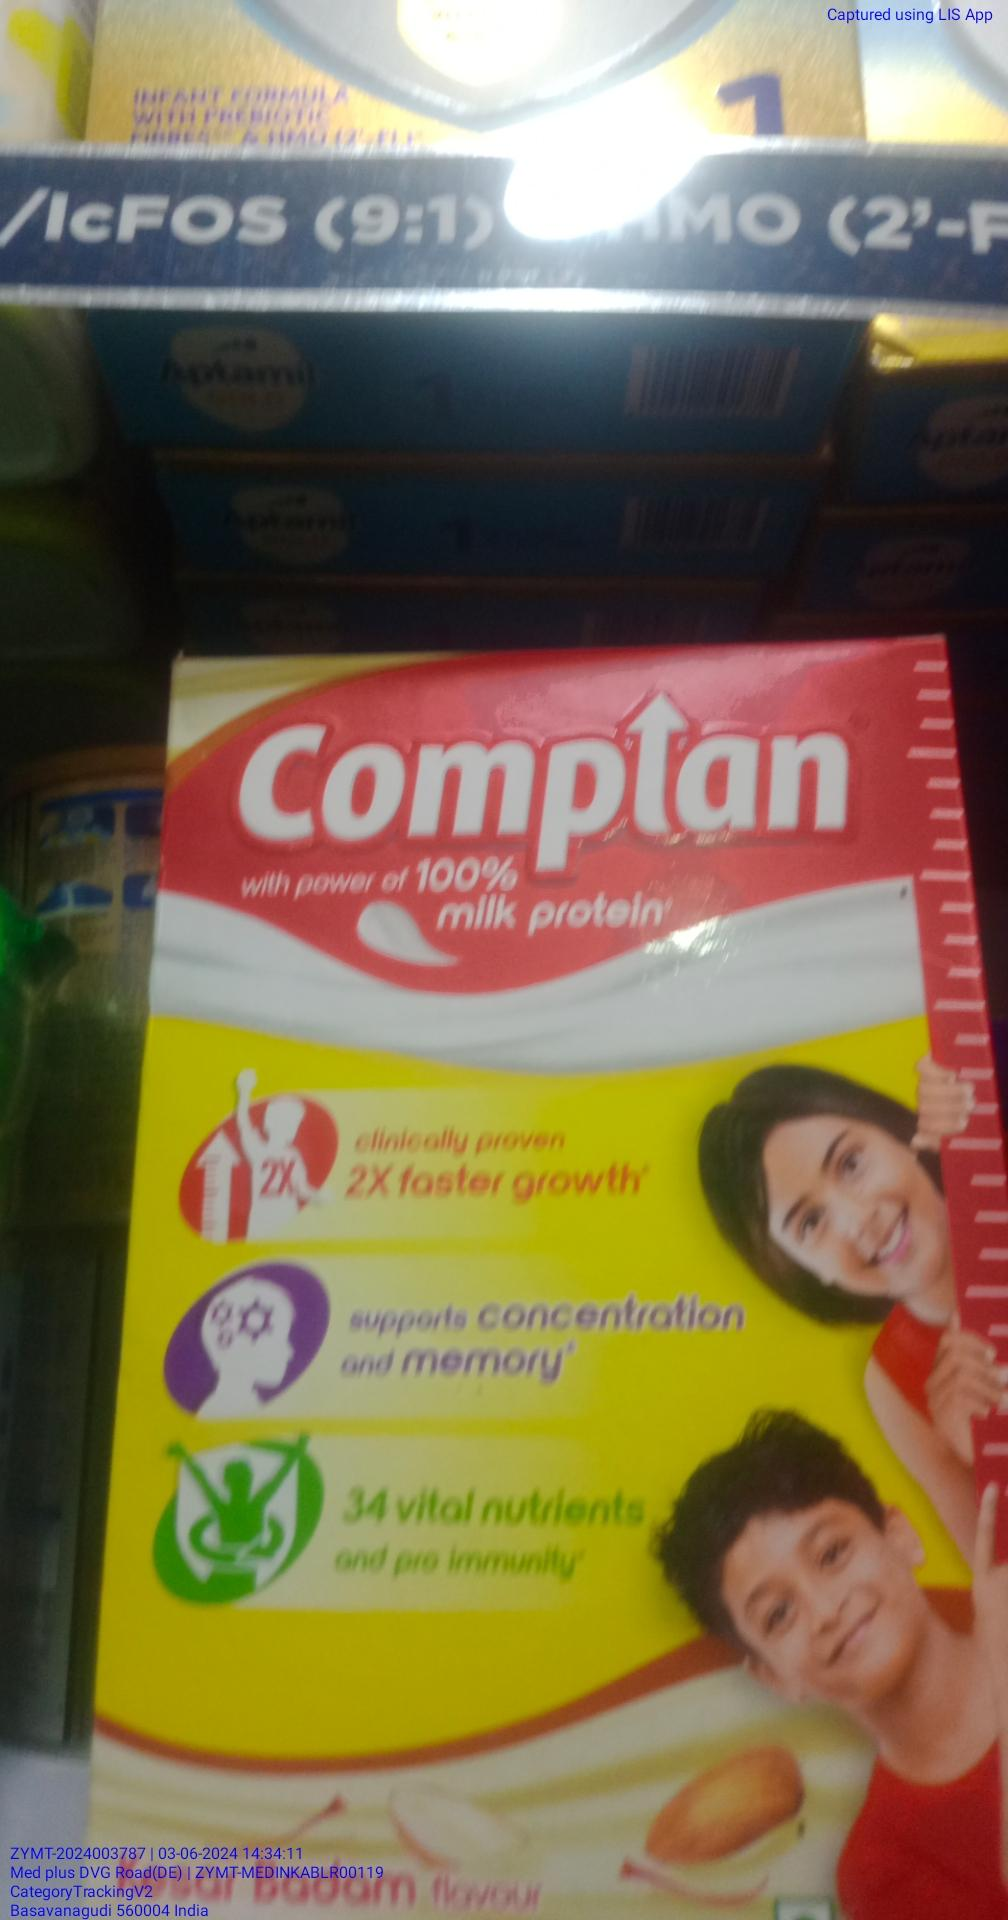COMPLAN_KESAR_BADAM_500_GMS_PACK: (140, 646, 1007, 1920)
